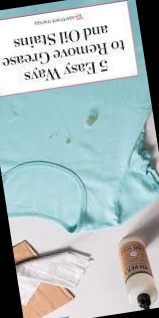oil: (84, 112, 107, 135), (41, 122, 59, 143), (65, 136, 75, 149)
